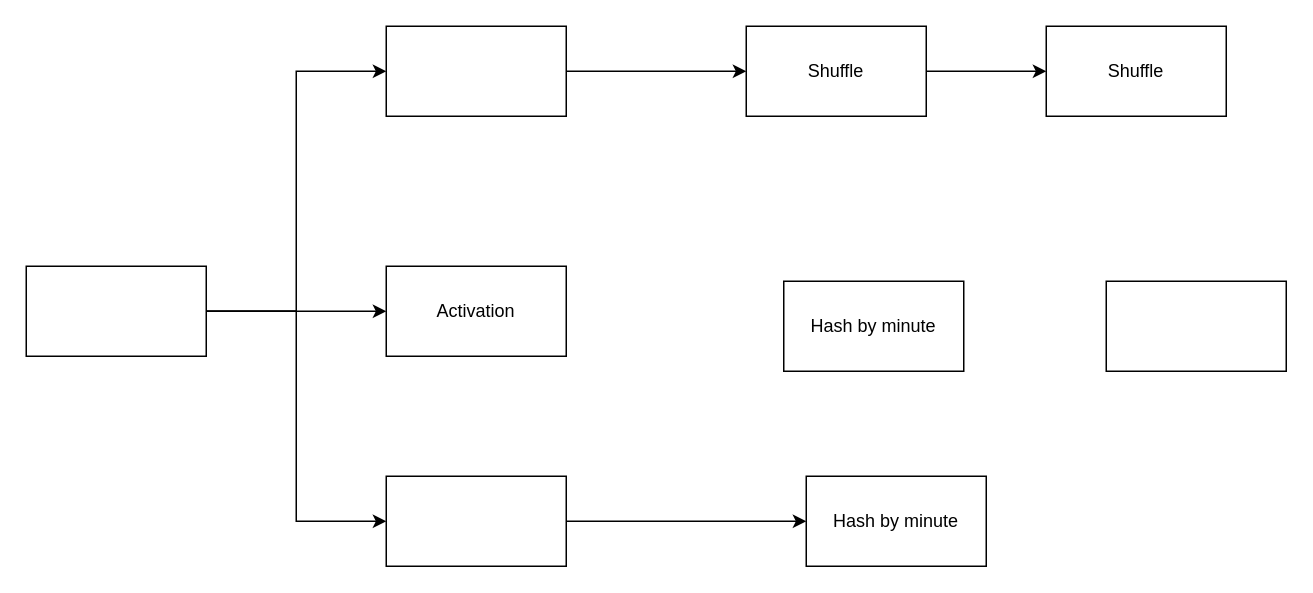
Some shapes in this 1313 by 593 pixel diagram are drawn without their labels. The centre of each missing label's shape, as x and y in pixels:
"Generation" goes at [475,70].
"Mother Keys" goes at [115,310].
"Verification" goes at [475,520].
